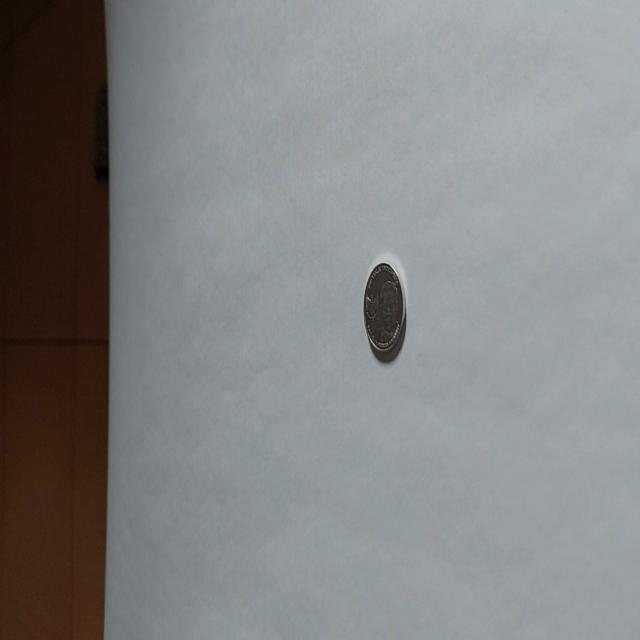seratus rupiah: (362, 260, 406, 358)
